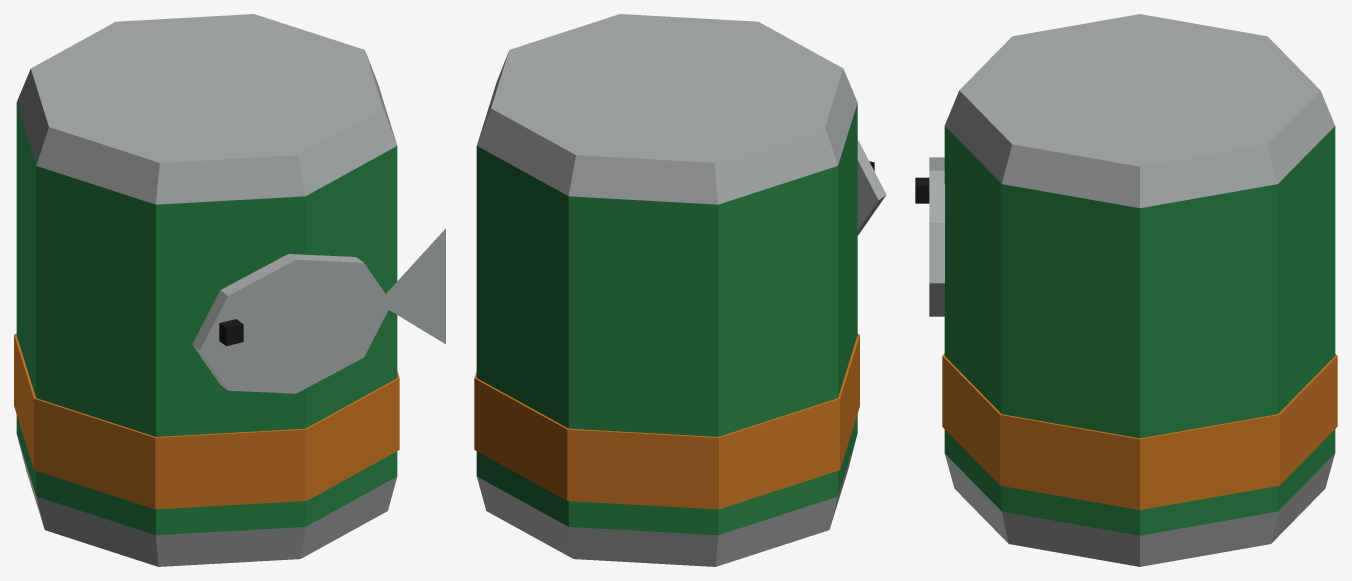
File: hh_do_hop.glb
The picture shows the model from 3 angles, left to right: view 1: azimuth 30°, elevation 25°; view 2: azimuth 150°, elevation 25°; view 3: azimuth 270°, elevation 25°; orthographic projection.
Visible parts, largest first — view 1: hh_do_hop; view 2: hh_do_hop; view 3: hh_do_hop.
Part boxes in pixels (x1=…): hh_do_hop: x1=14, y1=14, x2=445, y2=566; hh_do_hop: x1=474, y1=14, x2=886, y2=566; hh_do_hop: x1=915, y1=14, x2=1337, y2=566.
Bounding box in the file's own units: 0.081 × 0.09 × 0.0865.
